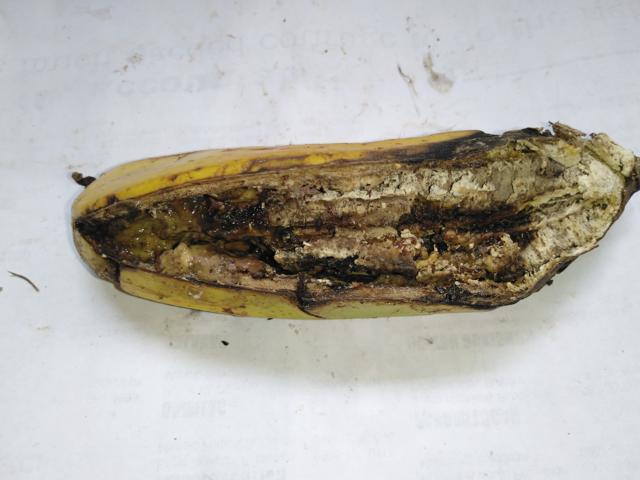rotten: (58, 113, 632, 323)
